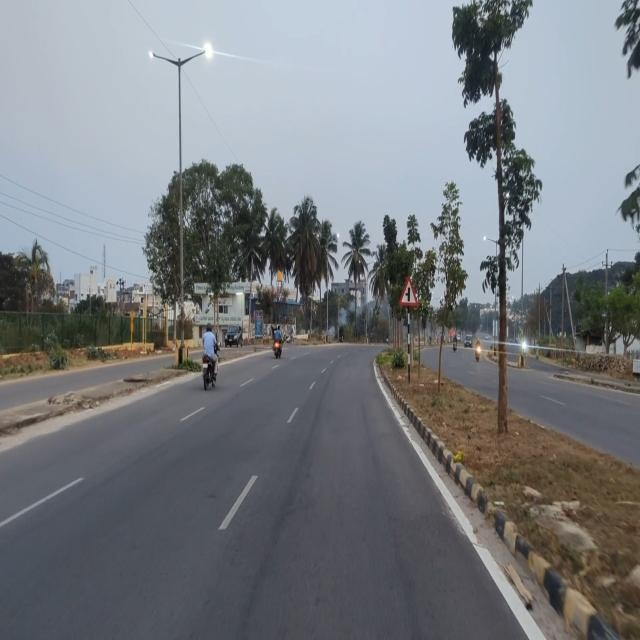bien_nguy_hiem: (398, 274, 419, 309)
